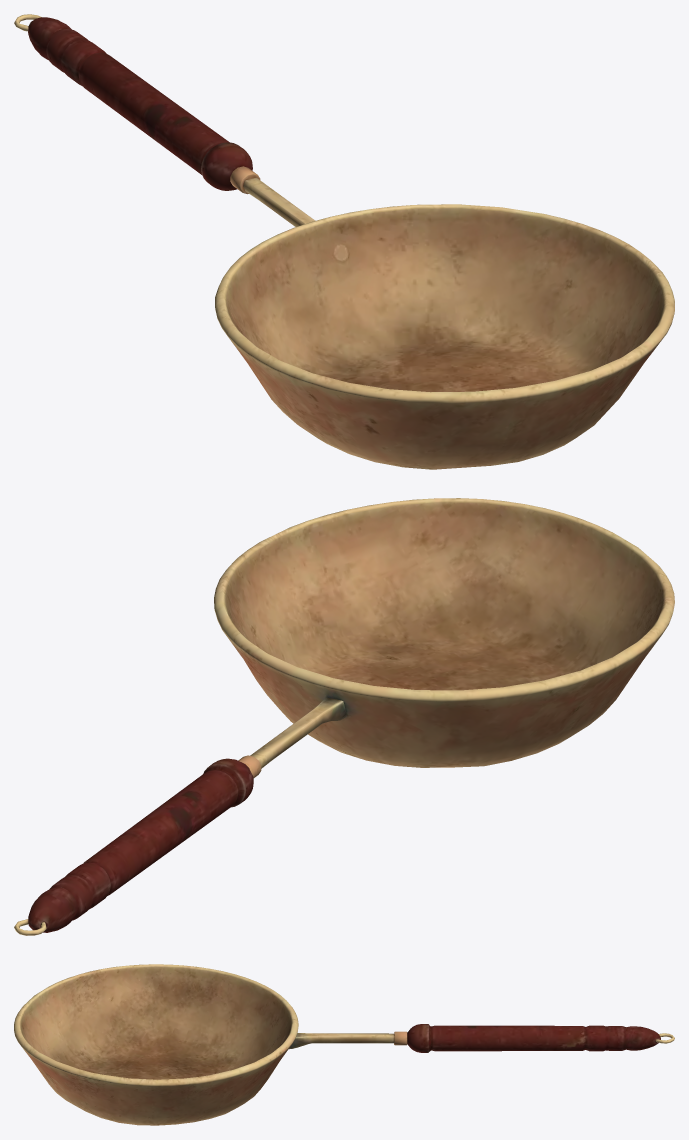
File: brass_pan_01.glb
3 views of the same model, one above another, from view 1: azimuth 30°, elevation 25°; view 2: azimuth 150°, elevation 25°; view 3: azimuth 270°, elevation 25° (orthographic). The views are drawn at different scales.
Parts seen in each view (by area): view 1: brass_pan_01; view 2: brass_pan_01; view 3: brass_pan_01.
Boxes of the visible parts, x1,y1,x2,y2 form: brass_pan_01: [14, 14, 674, 469]; brass_pan_01: [14, 498, 674, 935]; brass_pan_01: [14, 964, 674, 1125].
Size of the model in its own units: 0.1913 by 0.0525 by 0.4497.
1 material, 1 textured.
